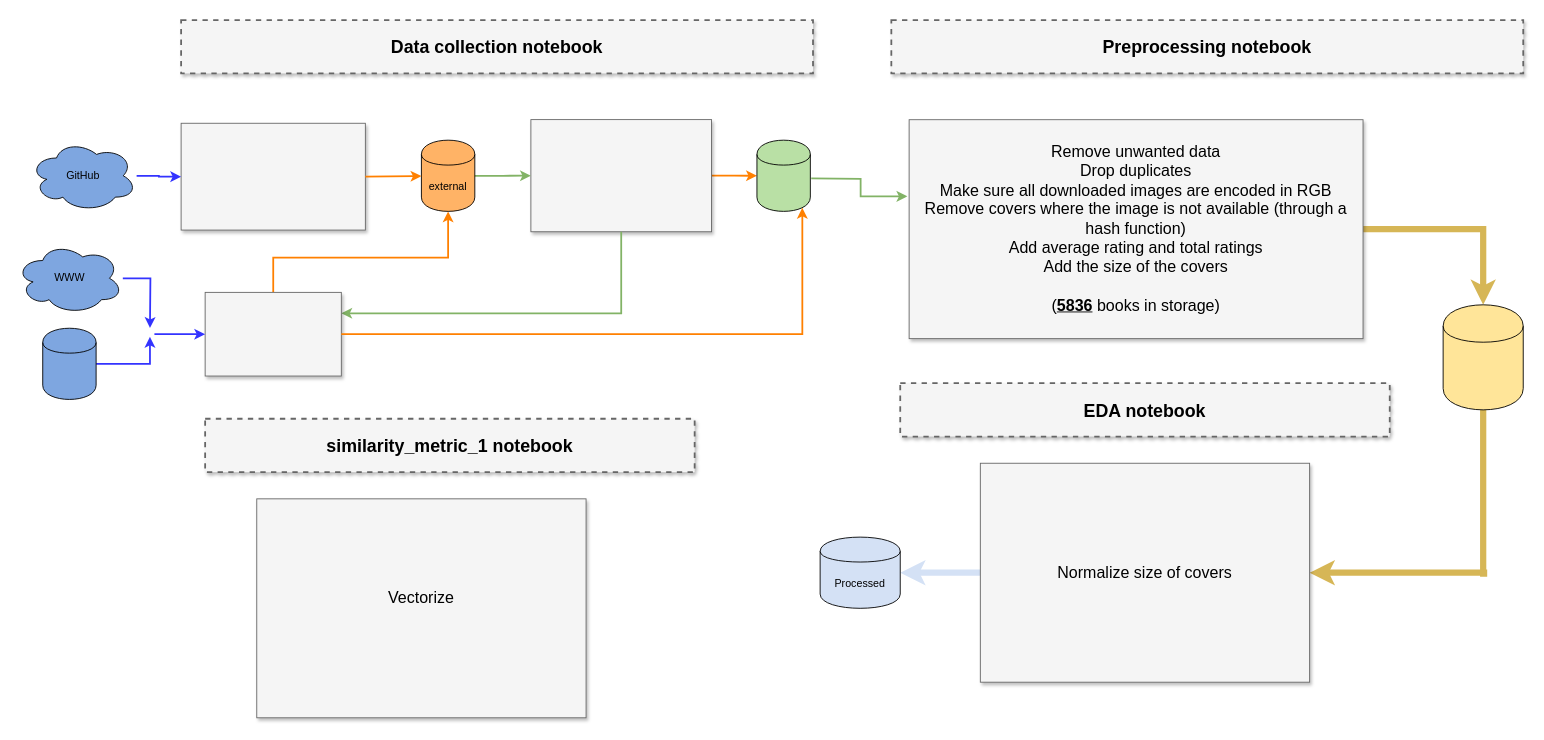
This 1544x740 diagram has some shape labels left out. Here are the shapes that lost their labels. From the top down, the centre of each, then its label:
At pixel 274 177: "5 csv files 10K books 23 features".
At pixel 621 176: "preprocess_goodbooks 9012 books 7 features".
At pixel 783 175: "raw".
At pixel 274 335: "Get book covers ( 8988, 8)".
At pixel 69 363: "Local/External".
At pixel 1482 357: "Interim".
